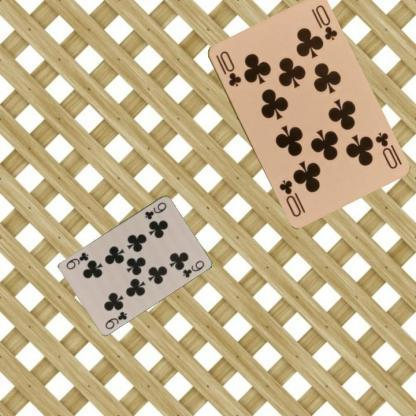10c: (212, 48, 242, 88), (372, 130, 399, 170)
9c: (142, 199, 168, 221), (102, 308, 128, 330)
